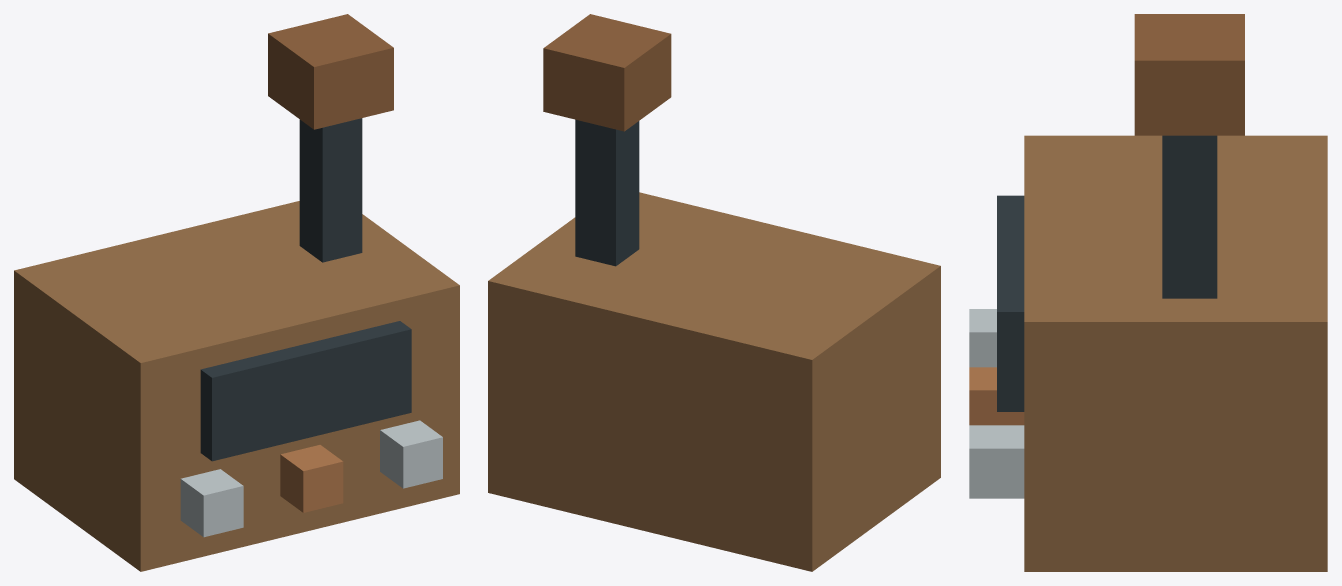
Rendered from controller.glb.
3 views of the same model, side by side, from view 1: azimuth 30°, elevation 25°; view 2: azimuth 150°, elevation 25°; view 3: azimuth 270°, elevation 25° (orthographic). The views are drawn at different scales.
Parts seen in each view (by area): view 1: controller/housing, controller/shaft; view 2: controller/housing, controller/shaft; view 3: controller/housing, controller/shaft.
Part boxes in pixels (x1,y1,x2,y2): controller/housing: (14,201,459,571); controller/shaft: (268,14,393,262); controller/housing: (488,192,940,571); controller/shaft: (543,14,671,266); controller/housing: (969,135,1327,571); controller/shaft: (1134,14,1244,298).
Size of the model in its own units: 0.5 by 0.625 by 0.4062.
